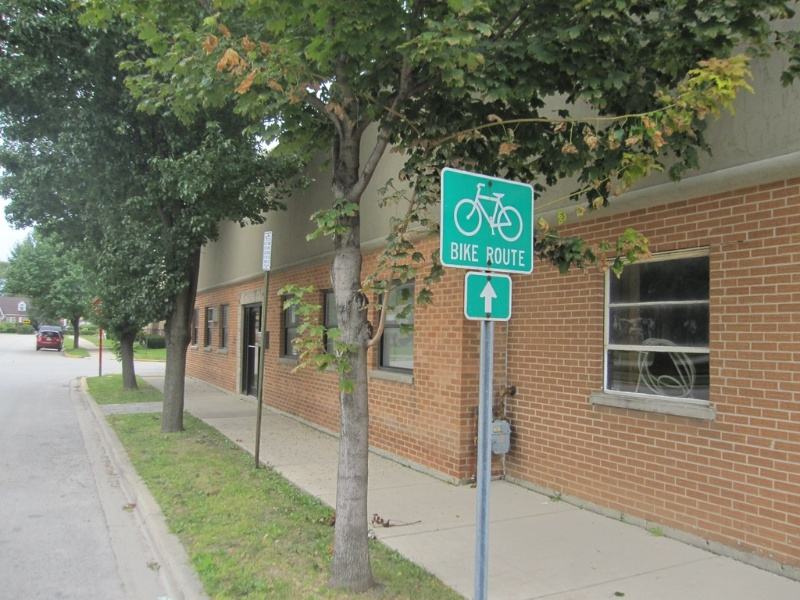cycle_route_ahead: (453, 179, 525, 244)
straight_direction: (478, 279, 499, 312)
